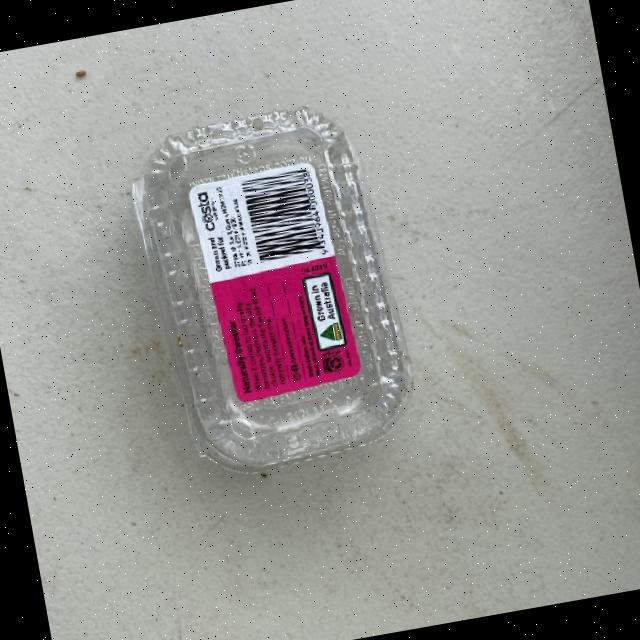plastic: (120, 93, 424, 486)
